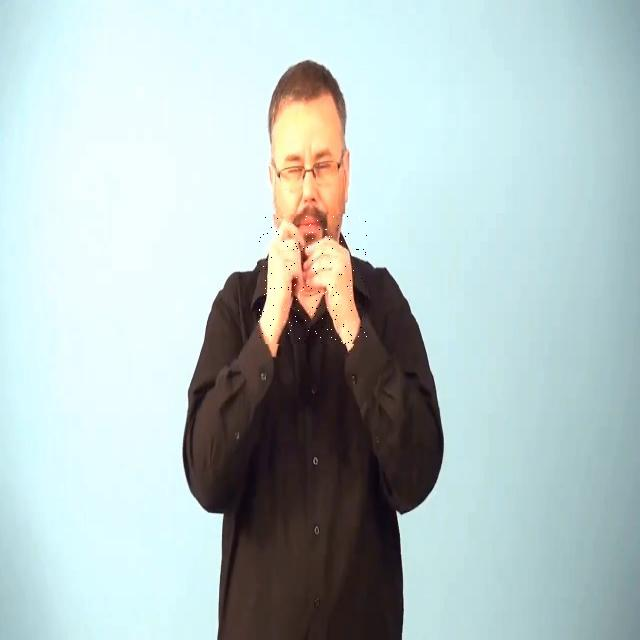juicy: (258, 214, 368, 344)
